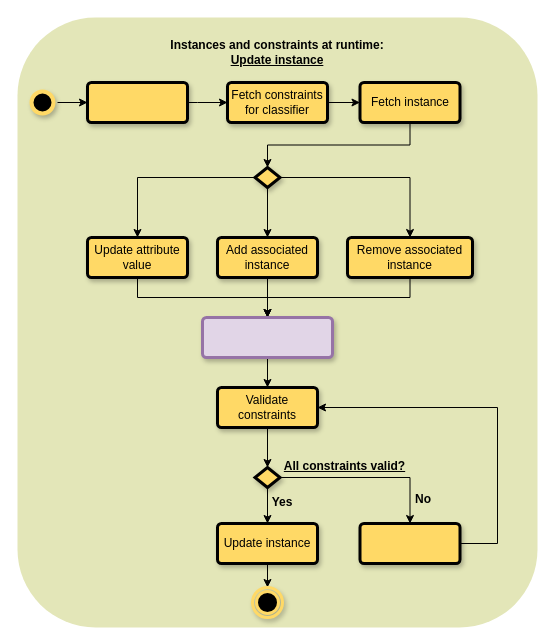
Some shapes in this 554 by 644 pixel diagram are drawn without their labels. Here are the shapes that lost their labels. From the top down, the centre of each, then its label:
At point (138, 103): "Fetch classifier".
At point (268, 339): "Analyze affected indirect constraints".
At point (410, 545): "Edit instance".
